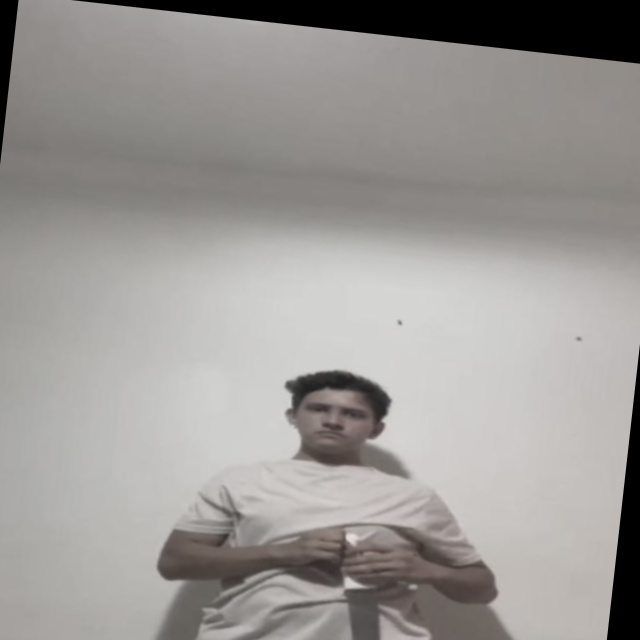Sharp-Object: (341, 586, 390, 640)
